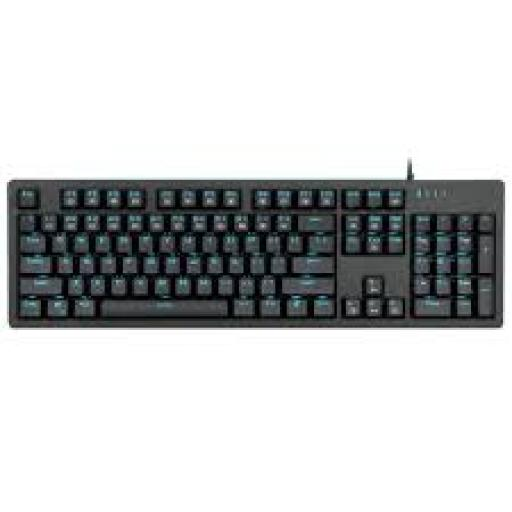KEYBOARD-2: (7, 180, 501, 325), (217, 57, 218, 173)
